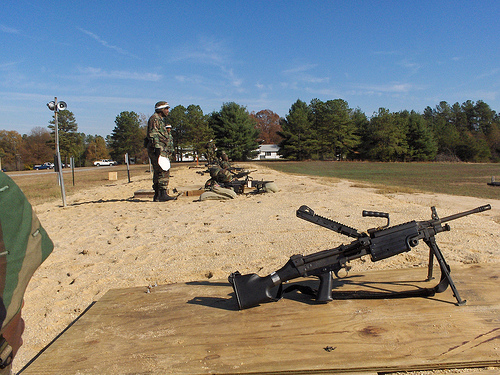rifle: (198, 199, 493, 328)
